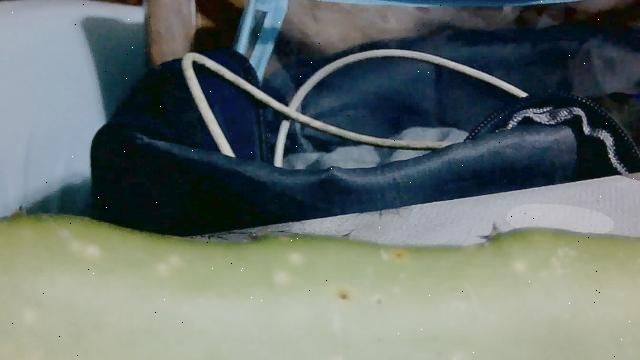stemcanker: (380, 244, 423, 272), (336, 284, 358, 312)
